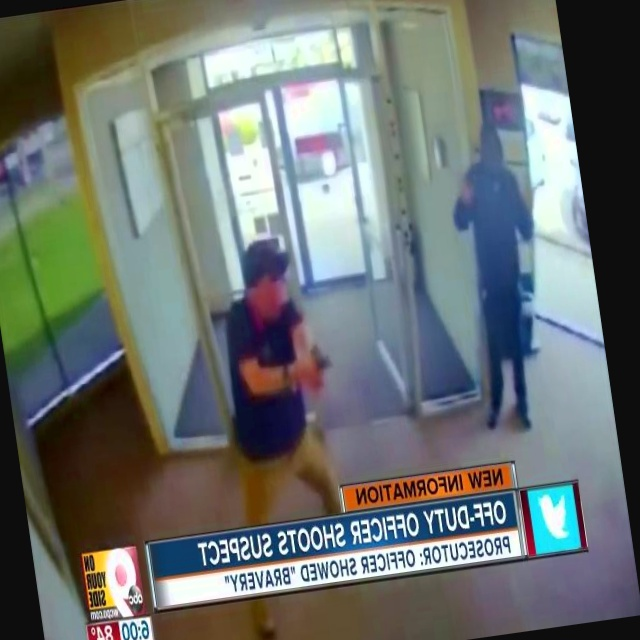gun: (299, 334, 340, 387)
